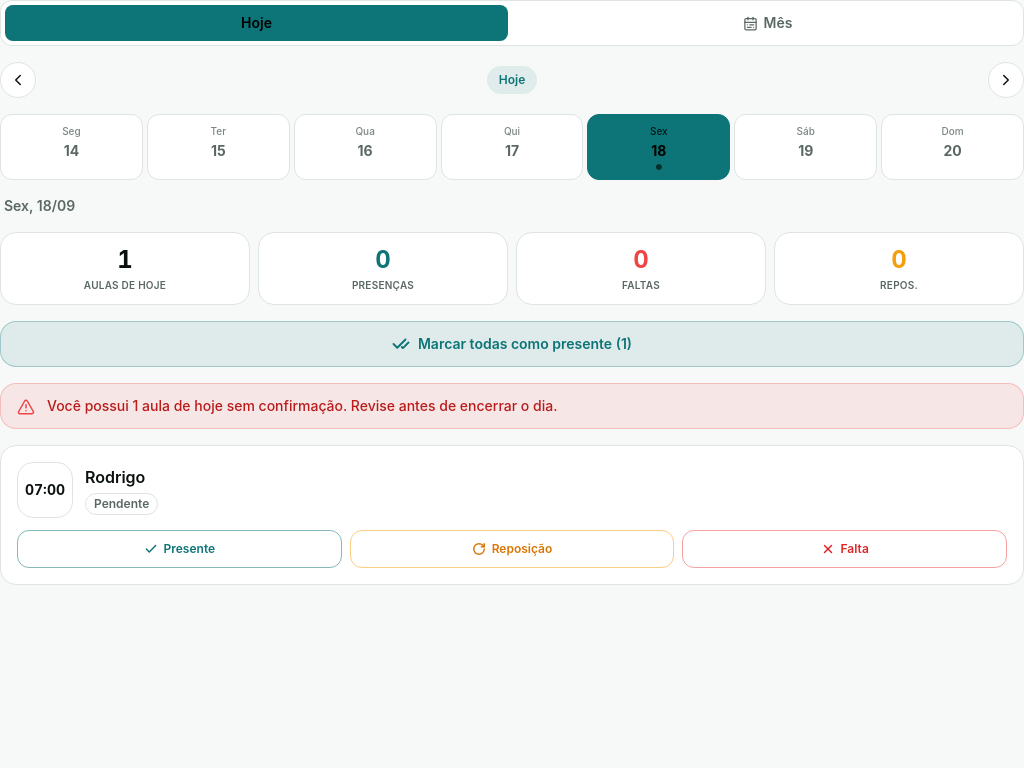
Test: AgendaView — comportamento observável do usuário › clicar em "Reposição" abre o modal de mover aula para outra data/horário
The image size is (1024, 768).
Click the button with aria-label "Agendar reposição" at (512, 548), box [350,530,674,568]
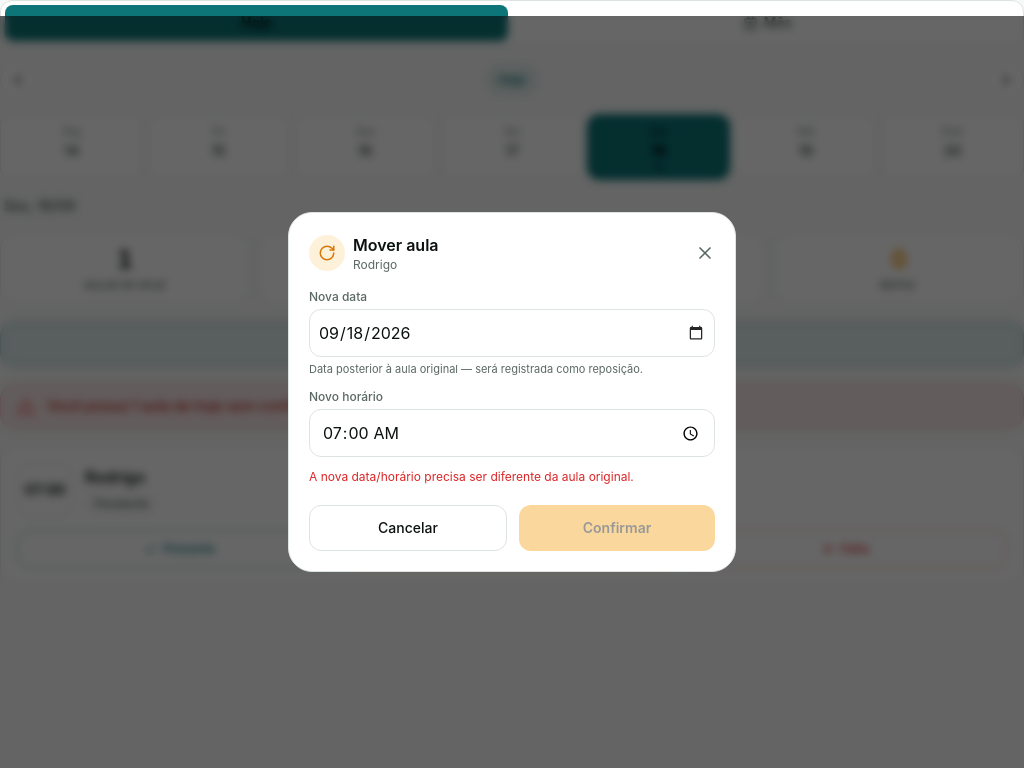
expect the heading "Mover aula" is shown: met, box [353,233,438,257]
